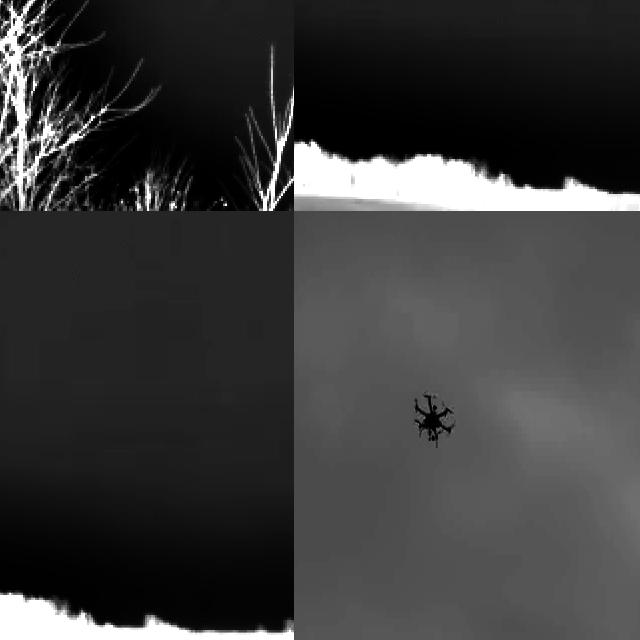drone: (406, 386, 461, 448)
